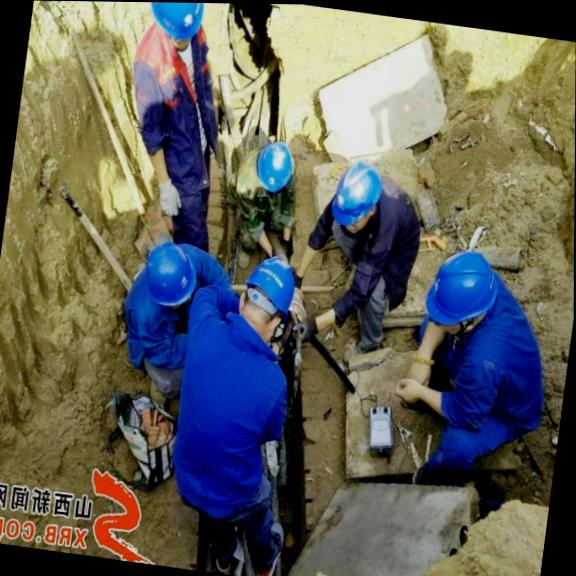no_safety_vest: (159, 321, 289, 530), (124, 44, 221, 214)
